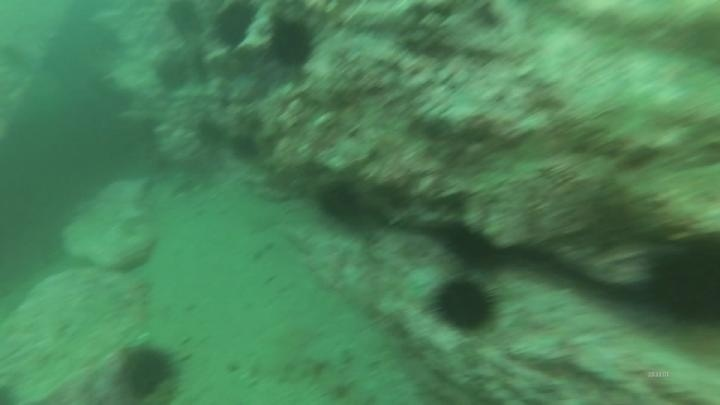echinus: (639, 232, 720, 333), (427, 272, 503, 338), (113, 339, 185, 403), (442, 221, 501, 272), (266, 16, 319, 72), (314, 177, 367, 227), (210, 1, 260, 52), (152, 50, 194, 95), (162, 0, 205, 39)
